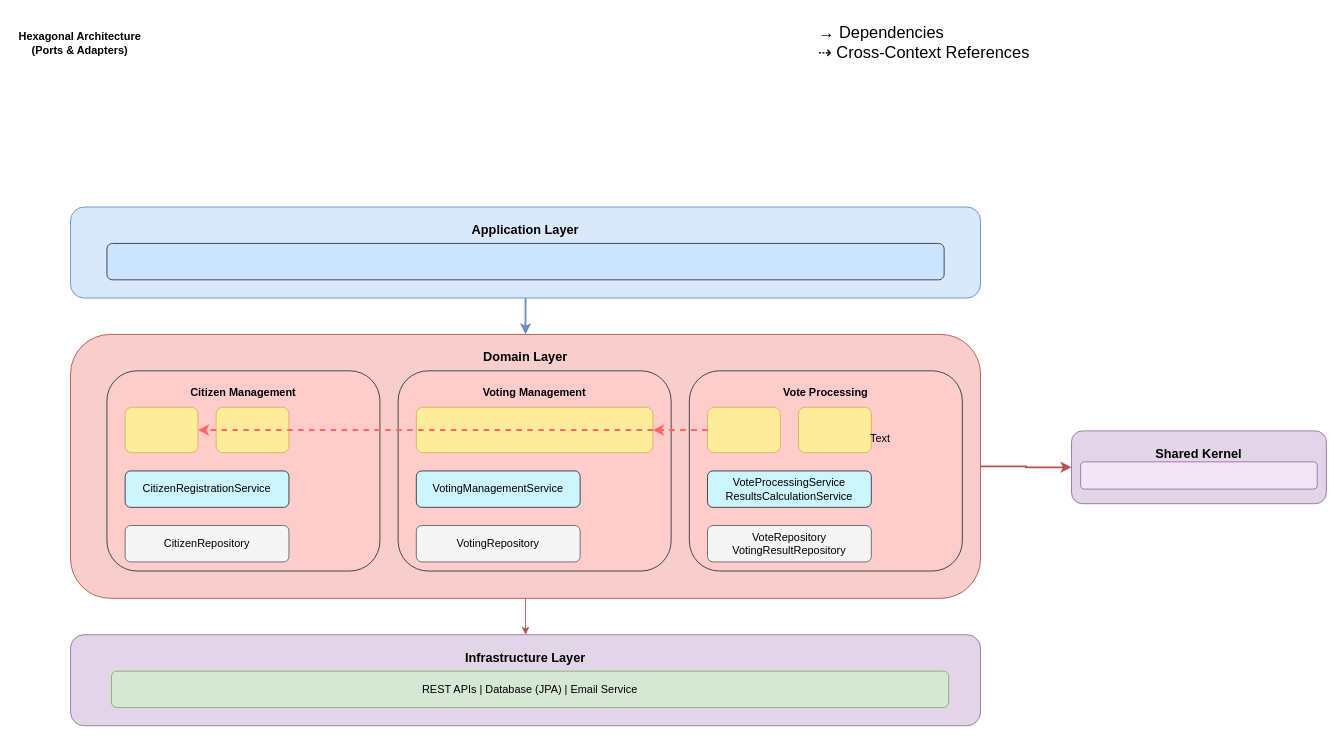
Image size: 1342x742. Some labels were removed from this diagram. The centre of each missing label's shape, as x and y in pixels:
"Authentication (Entity)" belongs at point (252, 429).
"Citizen (Aggregate)" belongs at point (161, 429).
"CitizenId | VotingId | Email | TimeRange" belongs at point (1198, 475).
"Use Cases | DTOs | Event Handlers" belongs at point (525, 261).
"Vote (Aggregate)" belongs at point (743, 429).
"Voting (Aggregate)" belongs at point (534, 429).
"VotingResult (Aggregate)" belongs at point (834, 429).
